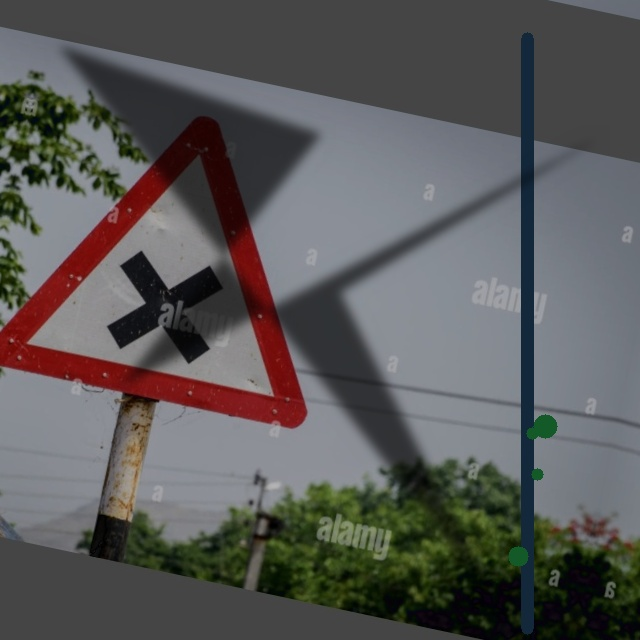Cross_Road: (6, 100, 358, 429)
